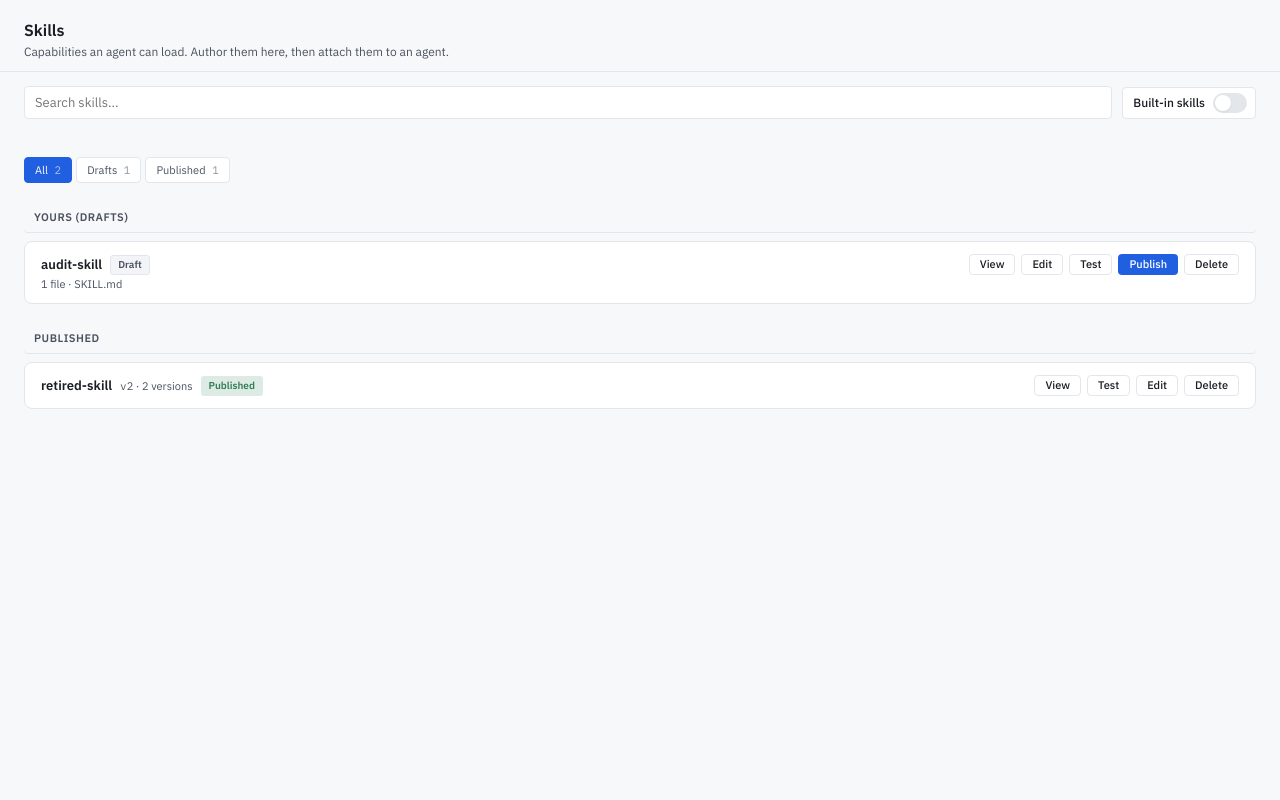
deleting a published skill › stays open with the error when the purge half-finishes
The width and height of the screenshot is (1280, 800).
Click the button "Delete" in the row of "versions" at [1212, 386], box [1184,375,1239,396]
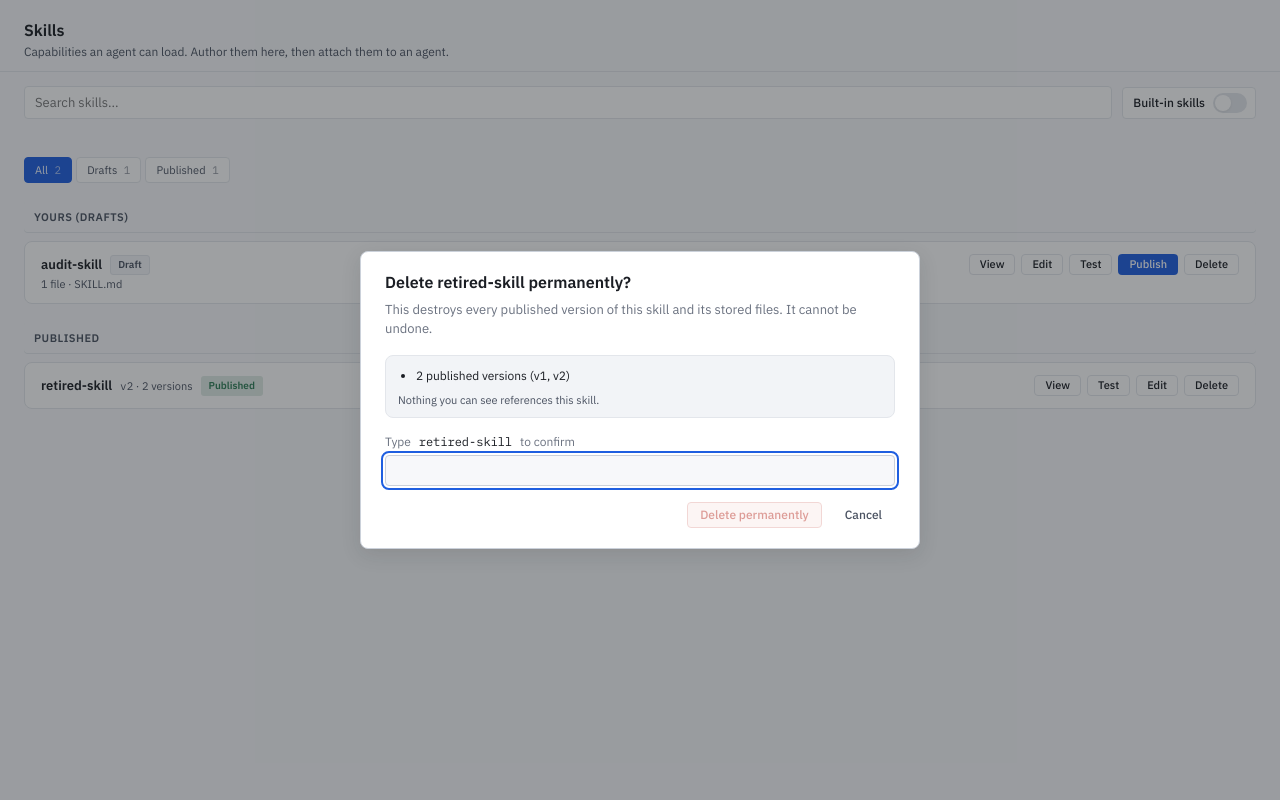
Result: the list item "2 published versions (v1, v2)" is shown at [416,368,570,383]
Type "retired-skill" into the field labelled "Type retired-skill to confirm" at [640, 471], box [385,455,895,486]
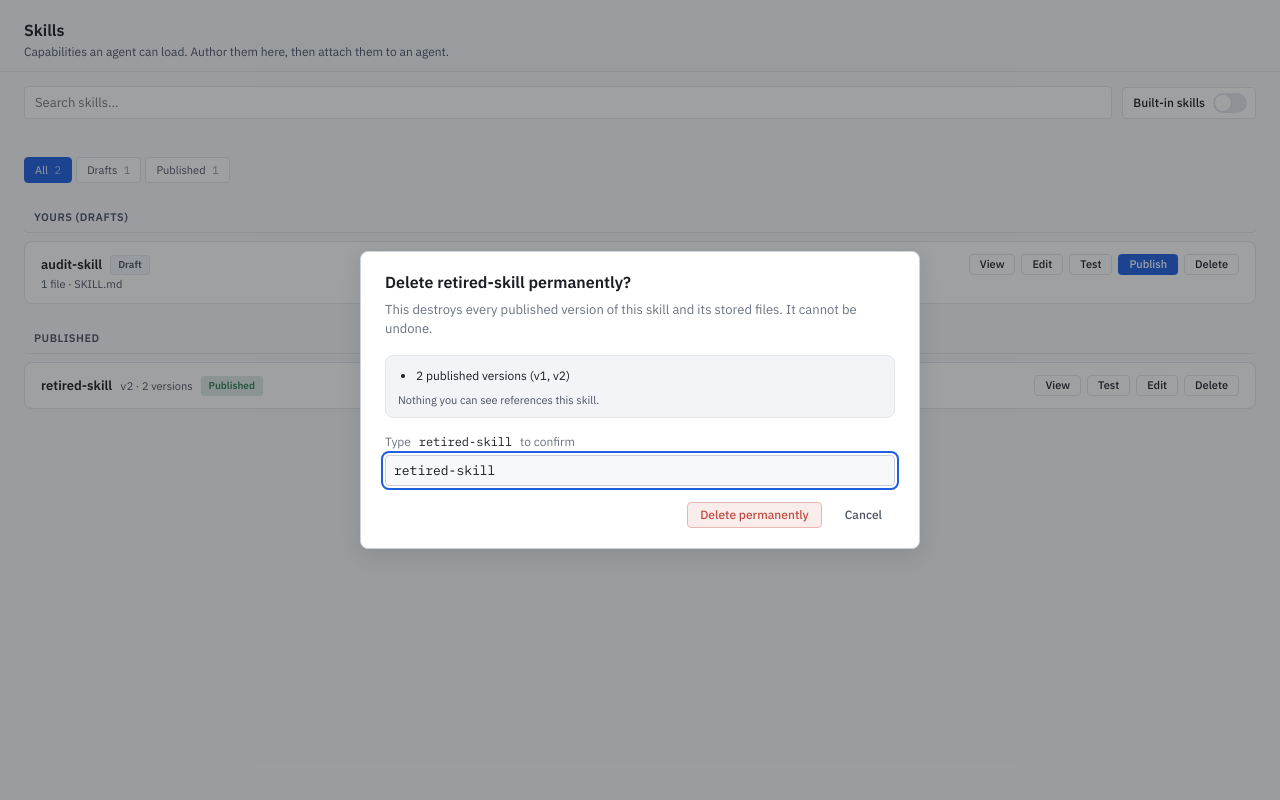
Click the button "Delete permanently" at [754, 515], box [687,502,822,528]
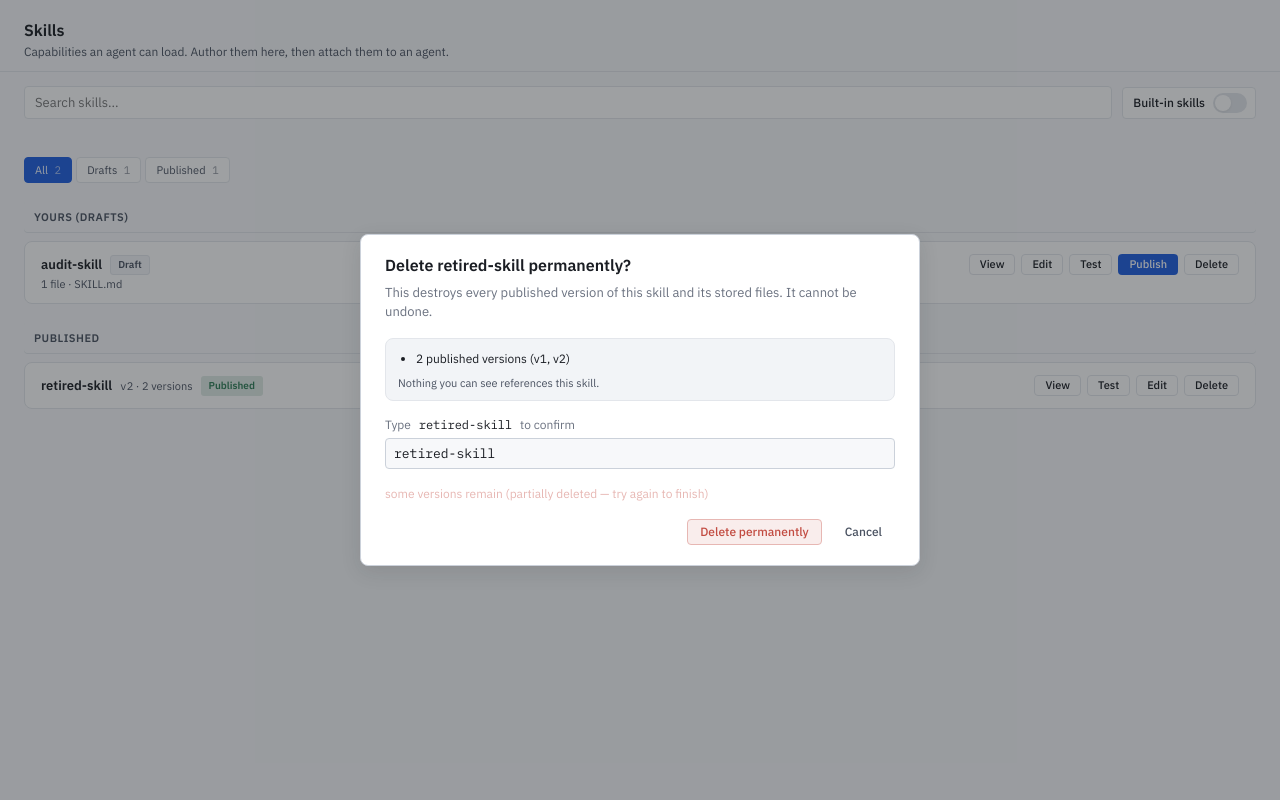
Result: the button "Delete permanently" is shown at [687,519,822,545]
Result: the text "try again to finish" is shown at [385,486,708,501]
